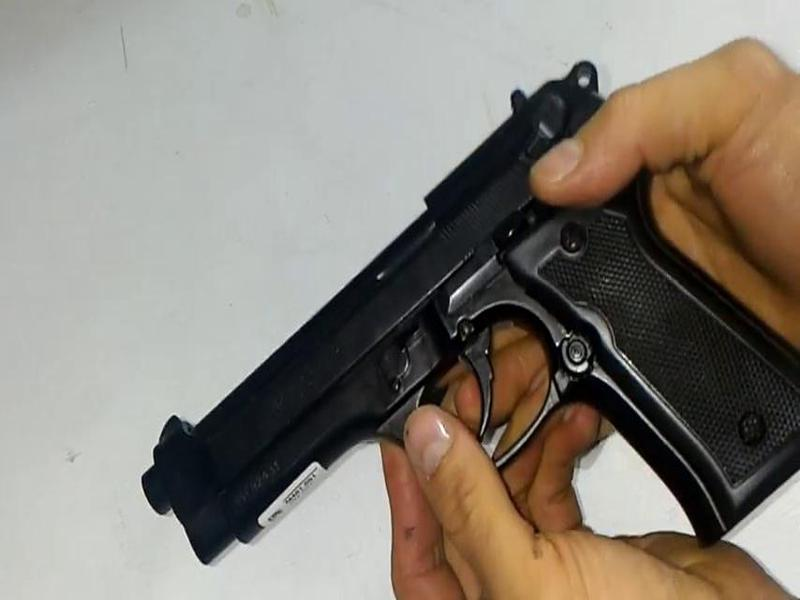Pistola: (110, 55, 800, 590)
